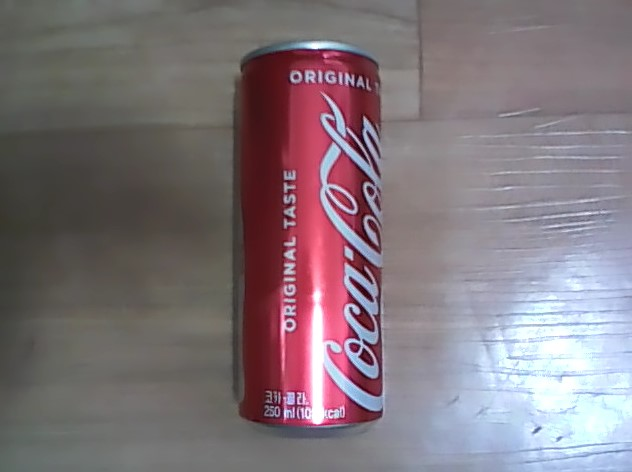Can: (227, 30, 393, 437)
